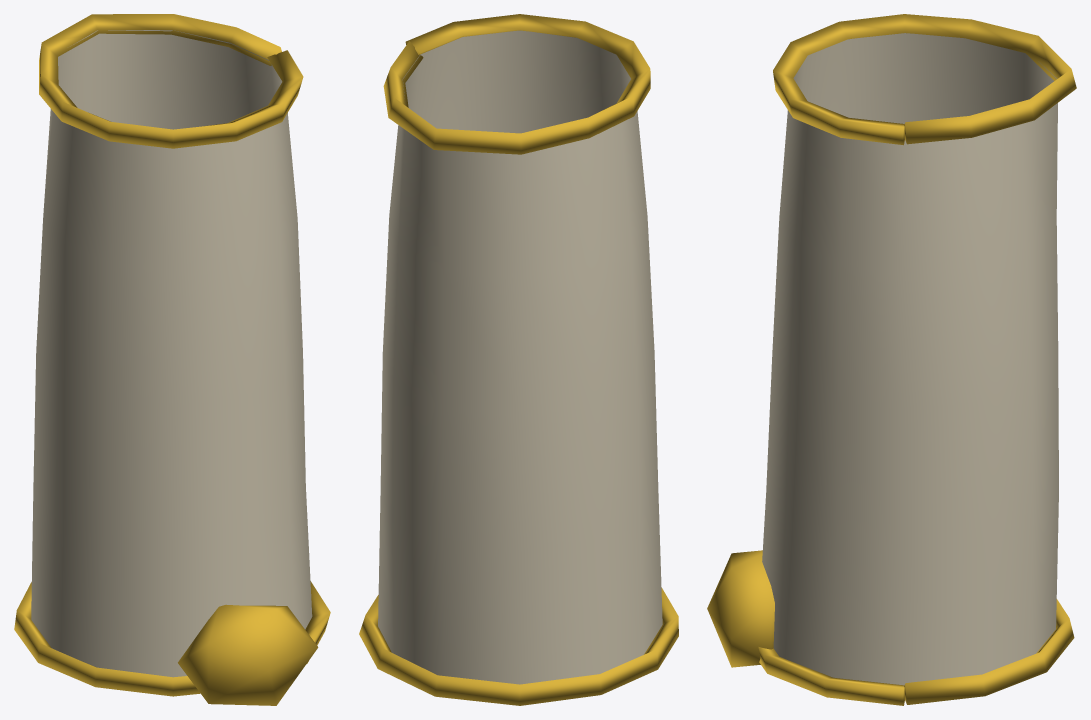
File: radiant_armor_greave.L.glb
3 views of the same model, side by side, from view 1: azimuth 30°, elevation 25°; view 2: azimuth 150°, elevation 25°; view 3: azimuth 270°, elevation 25° (orthographic). The views are drawn at different scales.
Visible parts, largest first — view 1: radiant_armor_greave.L; view 2: radiant_armor_greave.L; view 3: radiant_armor_greave.L.
Part boxes in pixels (x1,y1,x2,y2): radiant_armor_greave.L: [14, 14, 330, 705]; radiant_armor_greave.L: [359, 14, 678, 705]; radiant_armor_greave.L: [707, 14, 1076, 705].
Bounding box in the file's own units: 0.1996 × 0.4044 × 0.2298.
